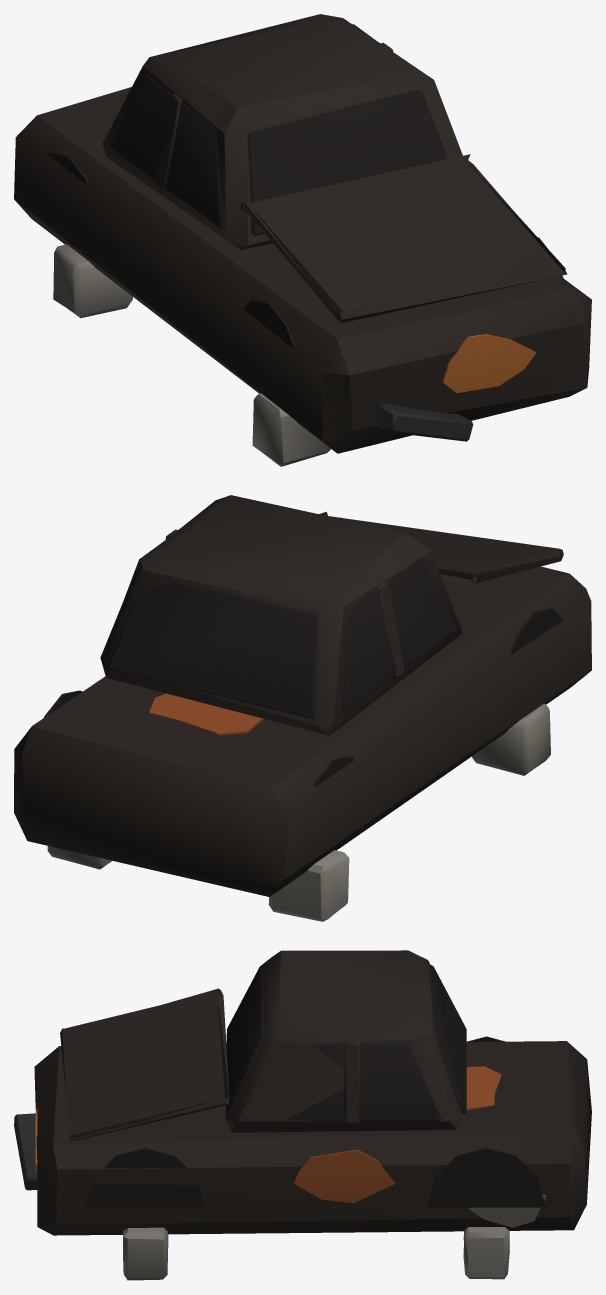
The model's file is 21_epave_brulee.fbx.
3 renders of one model, top to bottom at view 1: azimuth 30°, elevation 25°; view 2: azimuth 150°, elevation 25°; view 3: azimuth 270°, elevation 25°, orthographic. The views are drawn at different scales.
Visible parts, largest first — view 1: Epave; view 2: Epave; view 3: Epave.
Part boxes in pixels (x1,y1,x2,y2): Epave: (14, 14, 591, 466); Epave: (14, 495, 591, 921); Epave: (14, 950, 591, 1280).
Bounding box in the file's own units: 1.34 × 1.29 × 2.83.
Materials: 1 (1 with a texture image).
